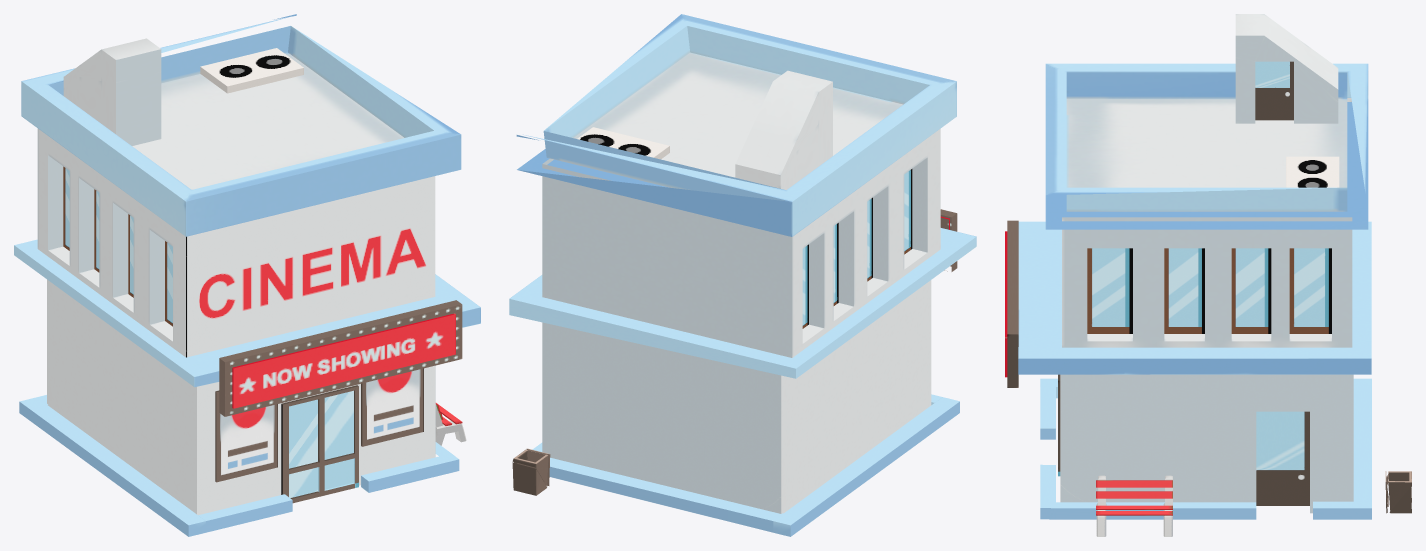
File: cinema.gltf
3 views of the same model, side by side, from view 1: azimuth 30°, elevation 25°; view 2: azimuth 150°, elevation 25°; view 3: azimuth 270°, elevation 25° (orthographic). The views are drawn at different scales.
Parts seen in each view (by area): view 1: Cinema_Asset_rig_initialShadingGroup1_0; view 2: Cinema_Asset_rig_initialShadingGroup1_0; view 3: Cinema_Asset_rig_initialShadingGroup1_0.
Boxes of the visible parts, x1,y1,x2,y2 form: Cinema_Asset_rig_initialShadingGroup1_0: [14, 14, 480, 536]; Cinema_Asset_rig_initialShadingGroup1_0: [509, 14, 976, 536]; Cinema_Asset_rig_initialShadingGroup1_0: [1005, 14, 1411, 536].
Bounding box in the file's own units: 4.51 × 5.48 × 5.18.
1 material, 1 textured.
